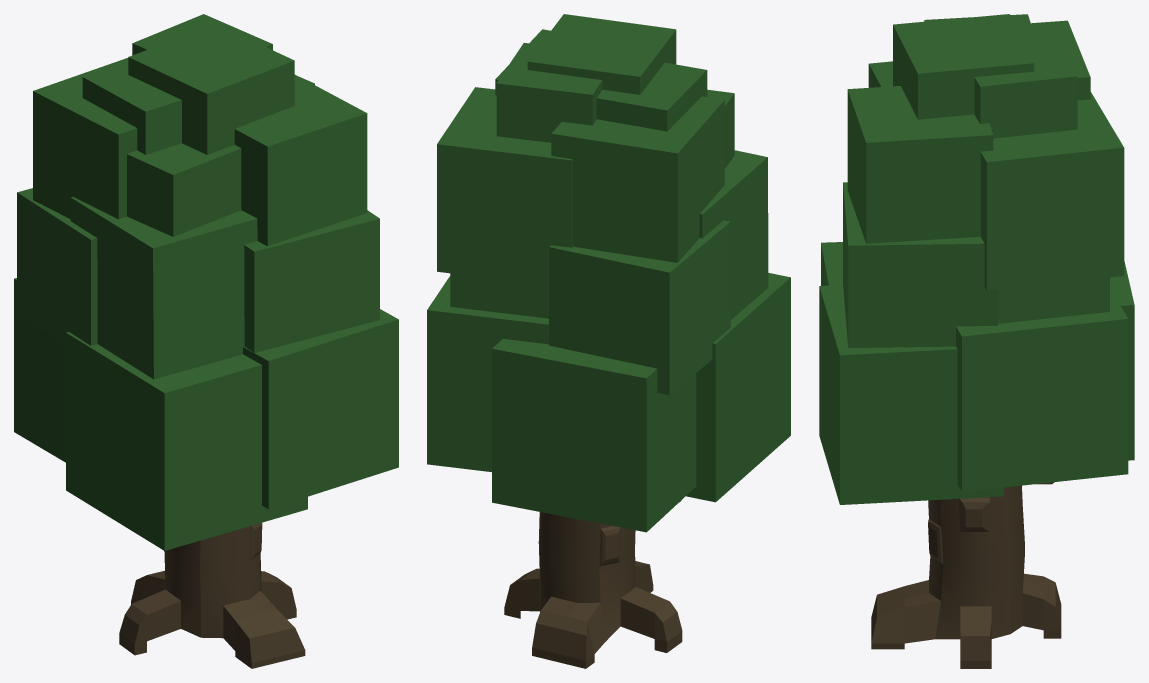
The model's file is Fruit_Tree_Blank.fbx.
3 views of the same model, side by side, from view 1: azimuth 30°, elevation 25°; view 2: azimuth 150°, elevation 25°; view 3: azimuth 270°, elevation 25° (orthographic).
Parts seen in each view (by area): view 1: Foliage, Trunk; view 2: Foliage, Trunk; view 3: Foliage, Trunk.
Boxes of the visible parts, <box> form: Foliage: <box>14,14,398,550</box>; Trunk: <box>119,523,305,668</box>; Foliage: <box>427,14,790,532</box>; Trunk: <box>504,501,682,668</box>; Foliage: <box>819,14,1134,504</box>; Trunk: <box>871,482,1061,668</box>.
Size of the model in its own units: 230 by 488 by 239.
